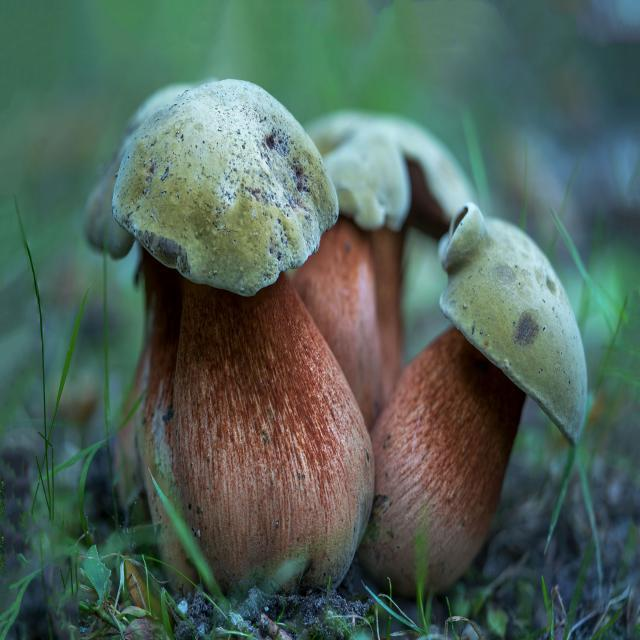Boletus: (115, 80, 373, 591), (366, 207, 586, 602)
